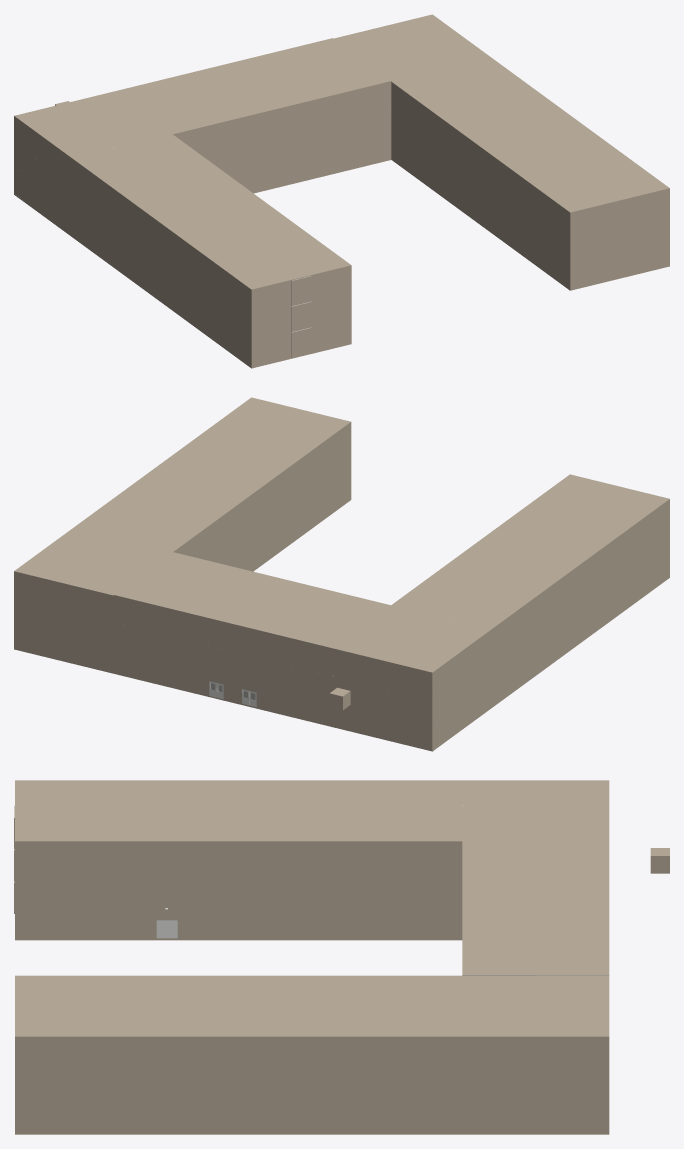
File: Hospital.fbx
3 renders of one model, top to bottom at view 1: azimuth 30°, elevation 25°; view 2: azimuth 150°, elevation 25°; view 3: azimuth 270°, elevation 25°, orthographic. The views are drawn at different scales.
Visible parts, largest first — view 1: ЗАЛУУУПА, Roof, Плоскость.006, Плоскость.002, Плоскость.010, Plane.040, Plane.012, Комната 313, Plane.013, Plane.041, Plane.027, F2_Slab_Backup (+15 smaller); view 2: ЗАЛУУУПА, Roof, перевязочная.006, перевязочная.020, перевязочная.013, Плоскость.007, перевязочная.005, перевязочная.002, перевязочная.003, перевязочная.009, перевязочная.010, перевязочная.012 (+22 smaller); view 3: ЗАЛУУУПА, Roof, процедурная.002, процедурная.001, процедурная, Plane.035, Плоскость.003, Плоскость, Плоскость.008, Plane.036, Plane.039, Plane.020 (+19 smaller).
Boxes of the visible parts, x1=… form: ЗАЛУУУПА: x1=334, y1=14, x2=669, y2=290; Roof: x1=14, y1=38, x2=391, y2=290; Плоскость.006: x1=174, y1=82, x2=391, y2=153; Плоскость.002: x1=201, y1=108, x2=391, y2=172; Плоскость.010: x1=227, y1=134, x2=391, y2=192; Plane.040: x1=229, y1=326, x2=291, y2=366; Plane.012: x1=234, y1=304, x2=291, y2=341; Комната 313: x1=234, y1=278, x2=291, y2=315; Plane.013: x1=312, y1=292, x2=351, y2=326; Plane.041: x1=312, y1=317, x2=351, y2=352; Plane.027: x1=312, y1=266, x2=351, y2=300; F2_Slab_Backup: x1=14, y1=158, x2=391, y2=368; ЗАЛУУУПА: x1=14, y1=397, x2=351, y2=673; Roof: x1=113, y1=474, x2=669, y2=673; перевязочная.006: x1=353, y1=680, x2=446, y2=724; перевязочная.020: x1=353, y1=706, x2=446, y2=749; перевязочная.013: x1=353, y1=655, x2=446, y2=698; Плоскость.007: x1=185, y1=665, x2=279, y2=712; перевязочная.005: x1=113, y1=622, x2=166, y2=659; перевязочная.002: x1=238, y1=652, x2=291, y2=689; перевязочная.003: x1=185, y1=639, x2=238, y2=676; перевязочная.009: x1=238, y1=626, x2=291, y2=663; перевязочная.010: x1=185, y1=614, x2=238, y2=650; перевязочная.012: x1=113, y1=596, x2=166, y2=633; ЗАЛУУУПА: x1=15, y1=975, x2=609, y2=1134; Roof: x1=15, y1=780, x2=609, y2=975; процедурная.002: x1=188, y1=907, x2=270, y2=938; процедурная.001: x1=188, y1=842, x2=270, y2=873; процедурная: x1=188, y1=874, x2=270, y2=905; Plane.035: x1=331, y1=907, x2=400, y2=938; Плоскость.003: x1=14, y1=805, x2=462, y2=873; Плоскость: x1=14, y1=849, x2=462, y2=905; Плоскость.008: x1=14, y1=881, x2=462, y2=938; Plane.036: x1=270, y1=908, x2=330, y2=938; Plane.039: x1=58, y1=907, x2=101, y2=938; Plane.020: x1=314, y1=842, x2=357, y2=873.
Bounding box in the file's own units: 62.69 × 11.3 × 68.02.
